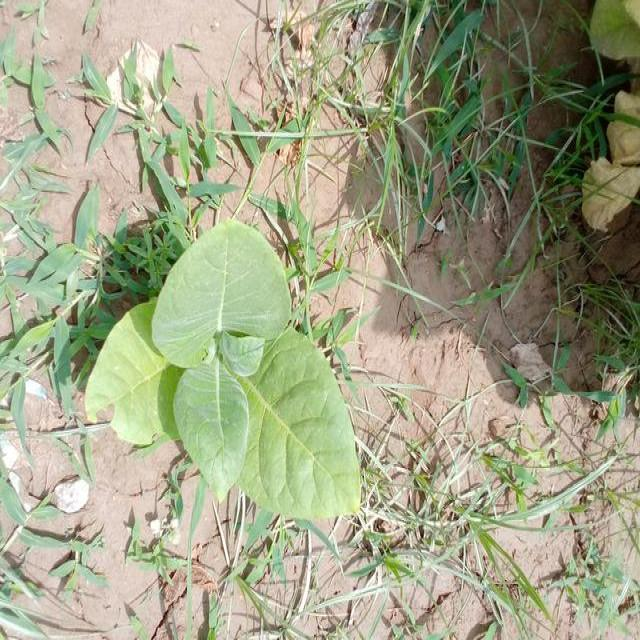crop: (94, 232, 360, 514)
